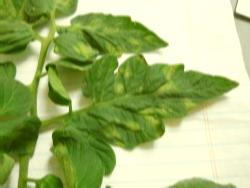Tomato mold leaf: (64, 55, 240, 155), (63, 12, 169, 60)
